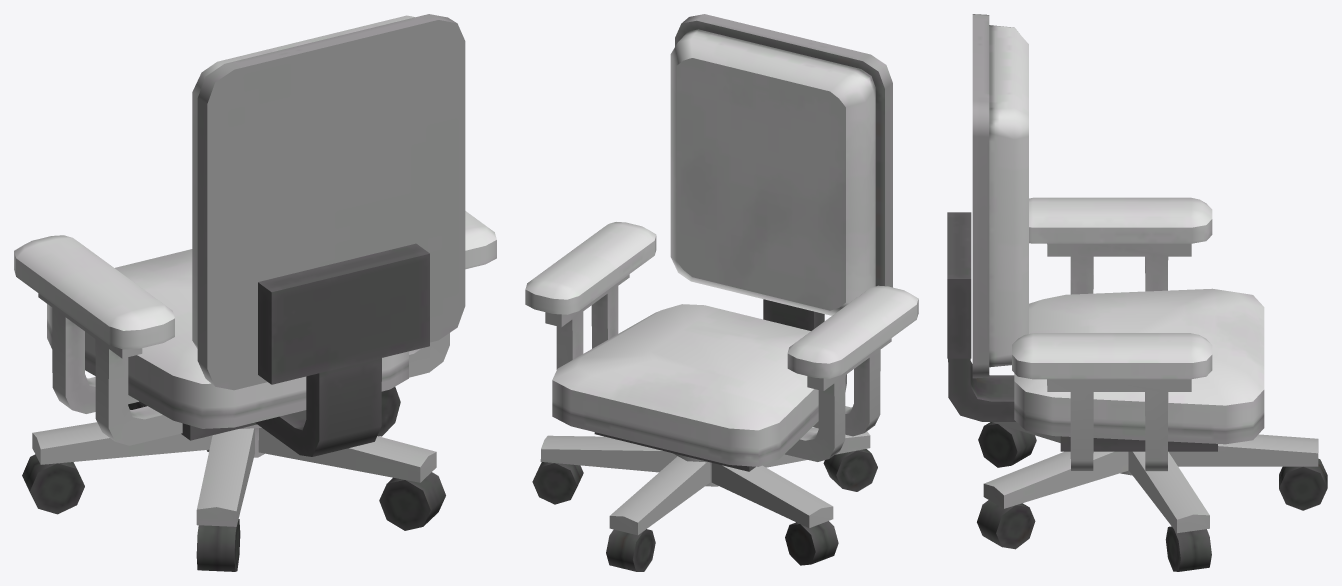
File: Pfb_Chair__11.fbx
3 views of the same model, side by side, from view 1: azimuth 30°, elevation 25°; view 2: azimuth 150°, elevation 25°; view 3: azimuth 270°, elevation 25° (orthographic). The views are drawn at different scales.
Visible parts, largest first — view 1: Mat_Chair_01; view 2: Mat_Chair_01; view 3: Mat_Chair_01.
Boxes of the visible parts, x1,y1,x2,y2 form: Mat_Chair_01: [14, 14, 496, 571]; Mat_Chair_01: [525, 14, 918, 571]; Mat_Chair_01: [947, 14, 1327, 571].
Size of the model in its own units: 1.02 by 1.3 by 1.
1 material, 1 textured.
